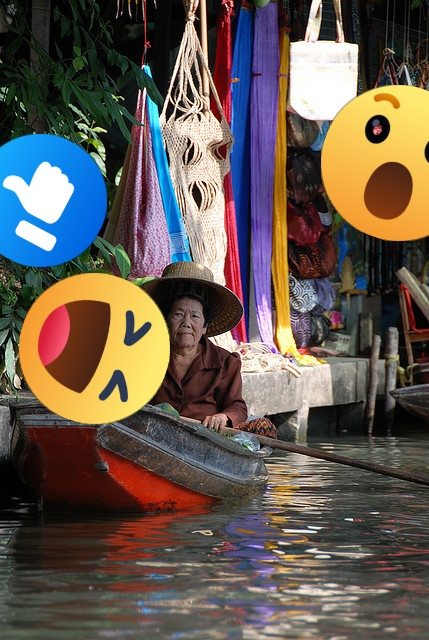haha: (19, 273, 170, 424)
like: (0, 134, 107, 267)
wow: (321, 85, 429, 241)
